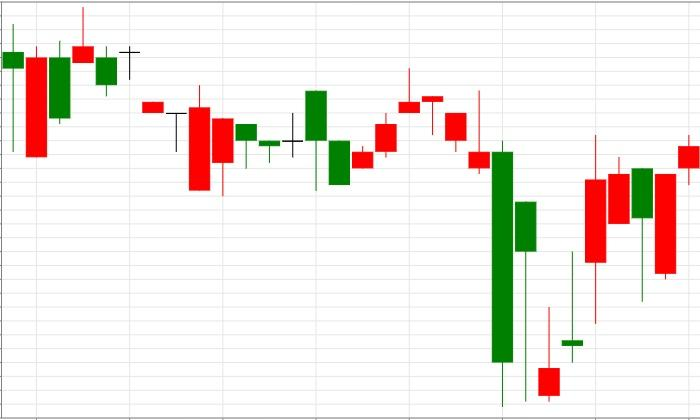inverse_hammer_rise: (422, 89, 561, 407)
